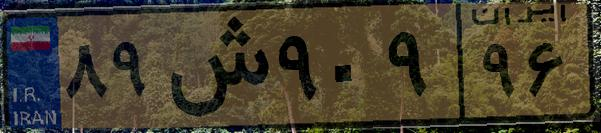0: (330, 28, 385, 110)
6: (525, 38, 570, 115)
8: (57, 26, 110, 100)
9: (270, 28, 330, 110), (385, 28, 445, 110), (475, 38, 525, 113), (110, 28, 158, 98)
ش: (158, 12, 270, 120)
